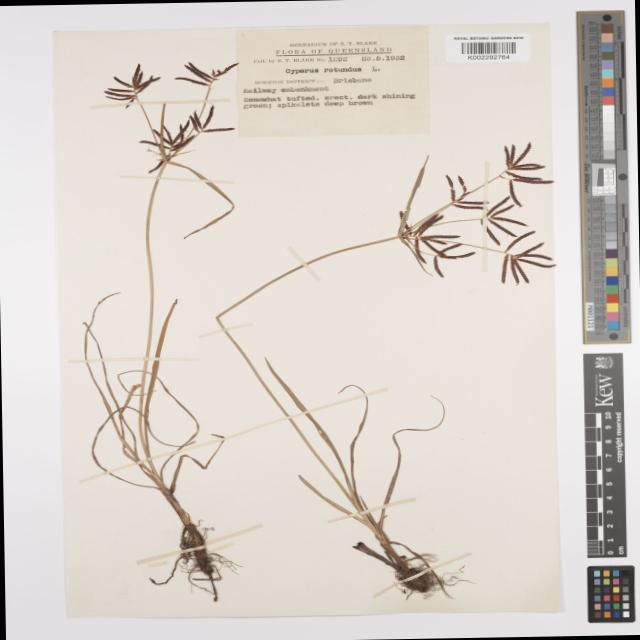cyperus: (387, 138, 556, 289), (95, 55, 248, 172)
